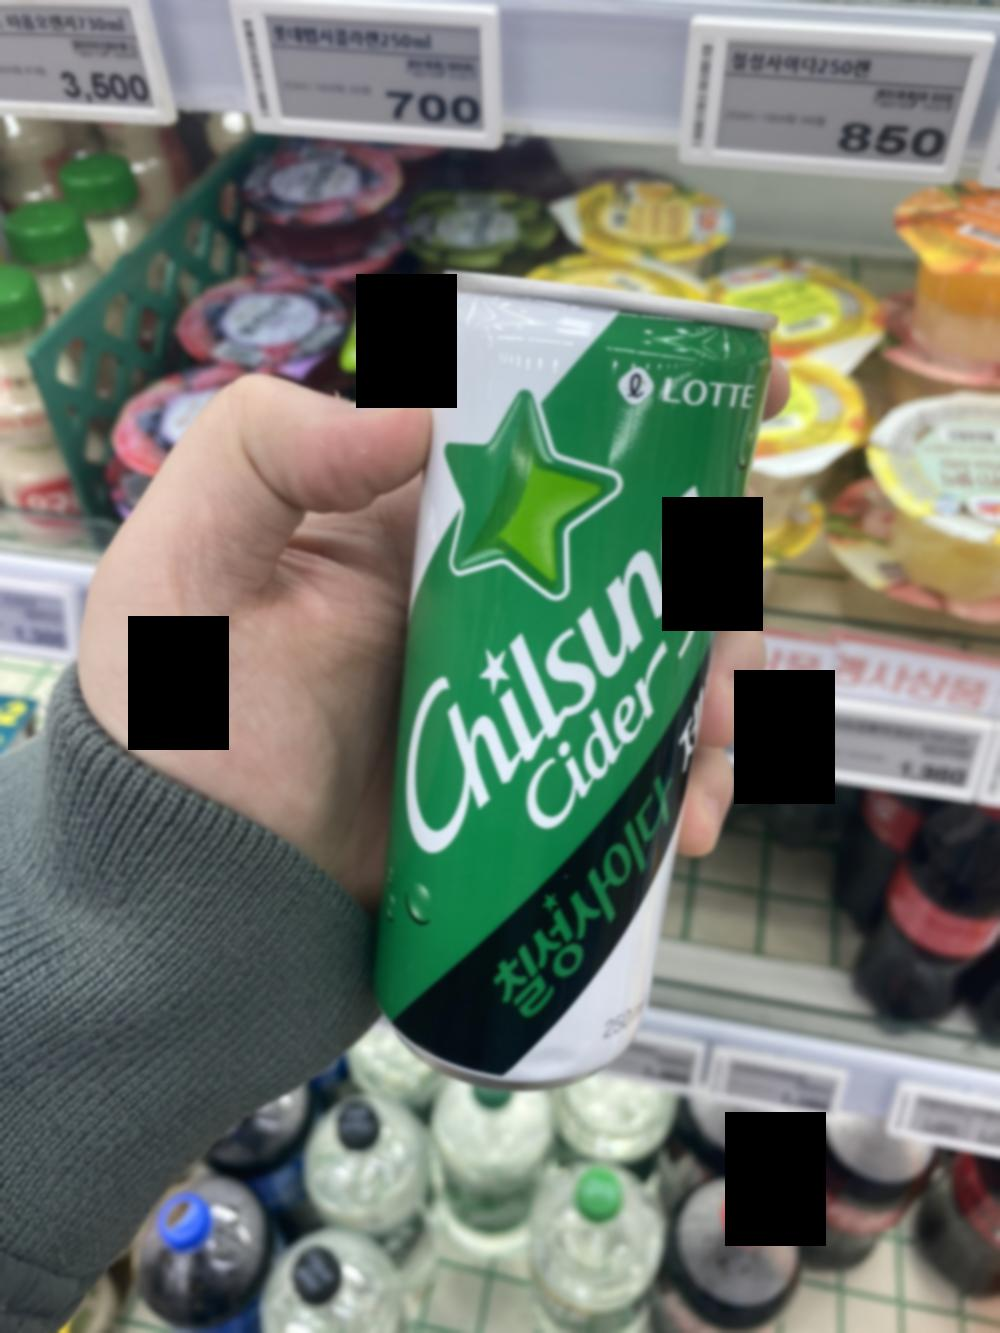chilsungcider_zero: (388, 254, 763, 1078)
